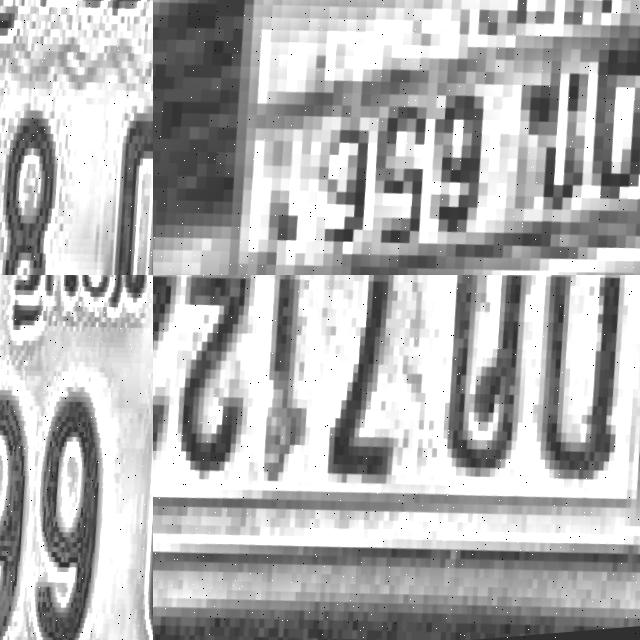license-plate: (153, 275, 640, 640), (169, 0, 640, 275), (0, 275, 153, 640), (0, 0, 153, 275)
